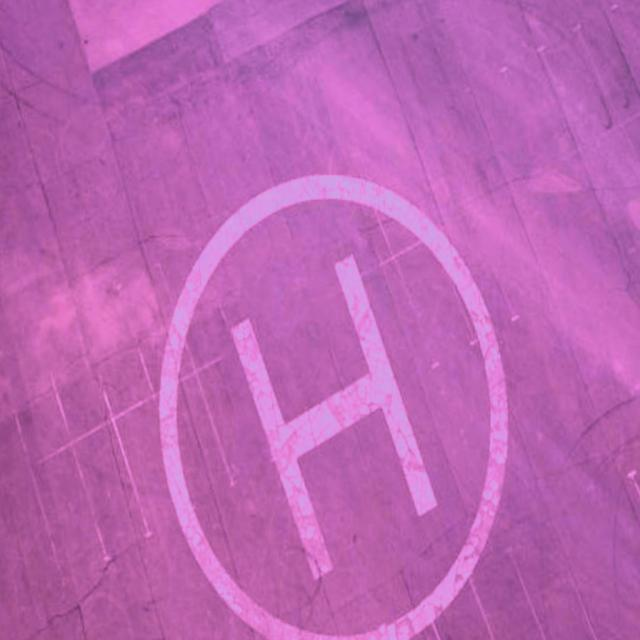helipad: (145, 167, 515, 639)
